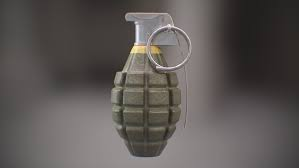bomb: (107, 12, 190, 157)
